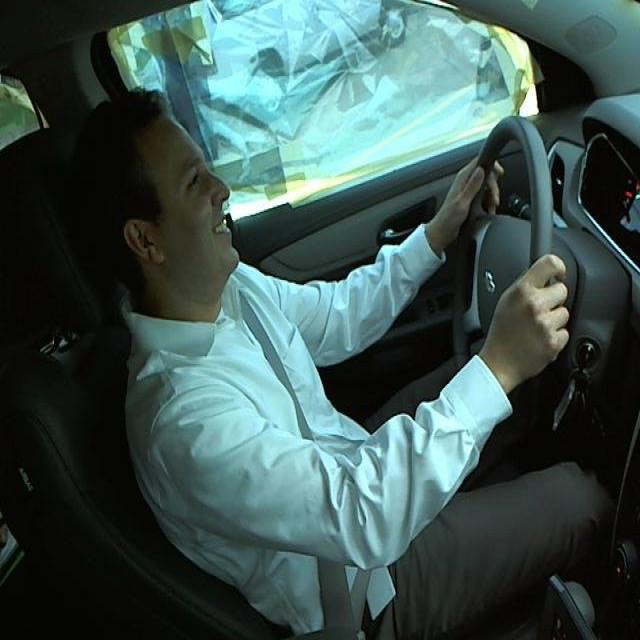seatbelt: (238, 300, 370, 624)
